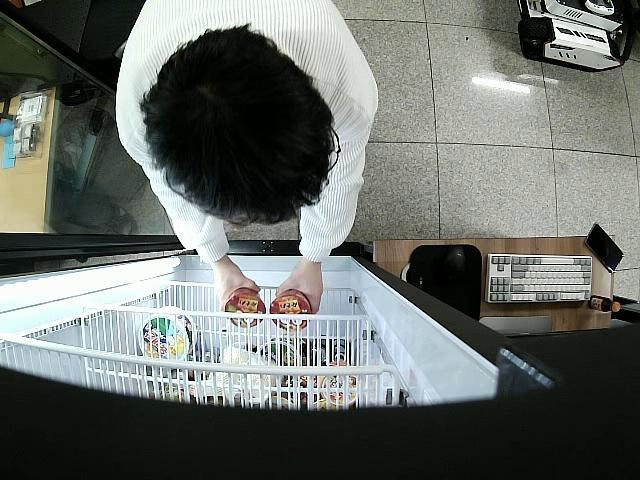06_nuguri_S: (226, 284, 266, 326), (271, 290, 312, 330)
